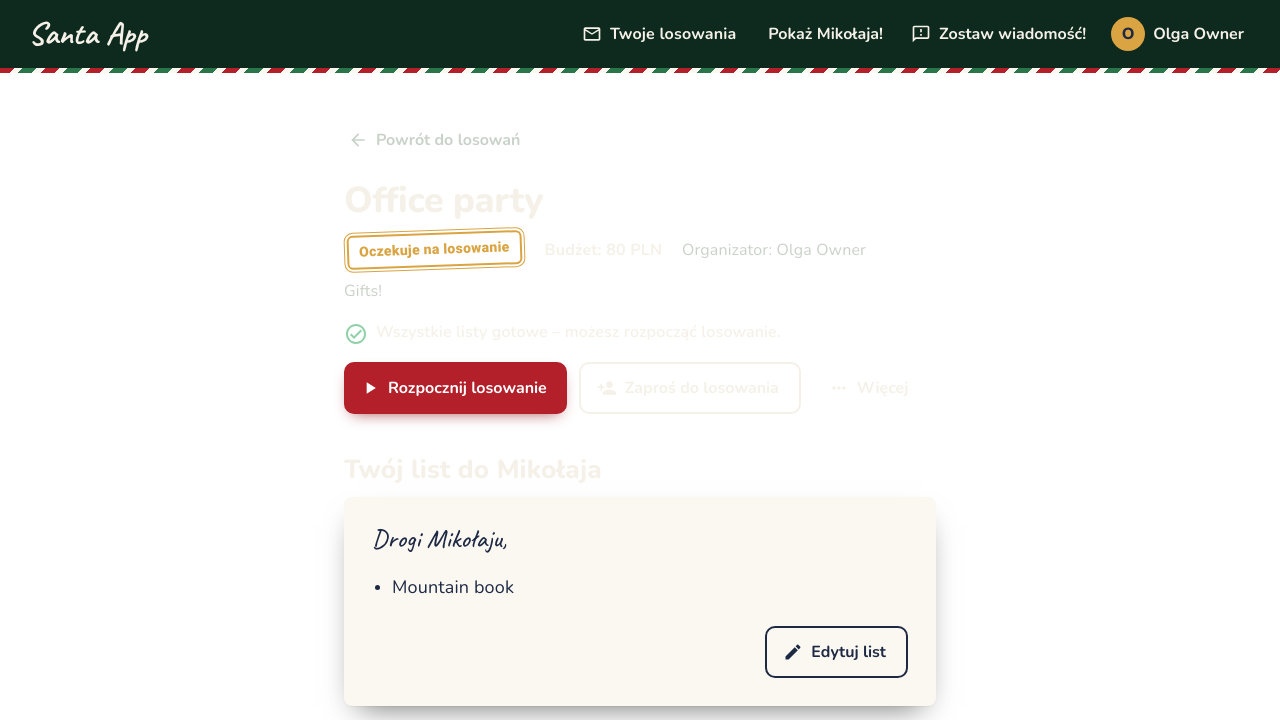
DrawPage › puts the cursor in a new thing and starts the next one on Enter
Click the button "Edytuj list".
click(837, 652)  # box [765,626,908,678]
(page scrolled)
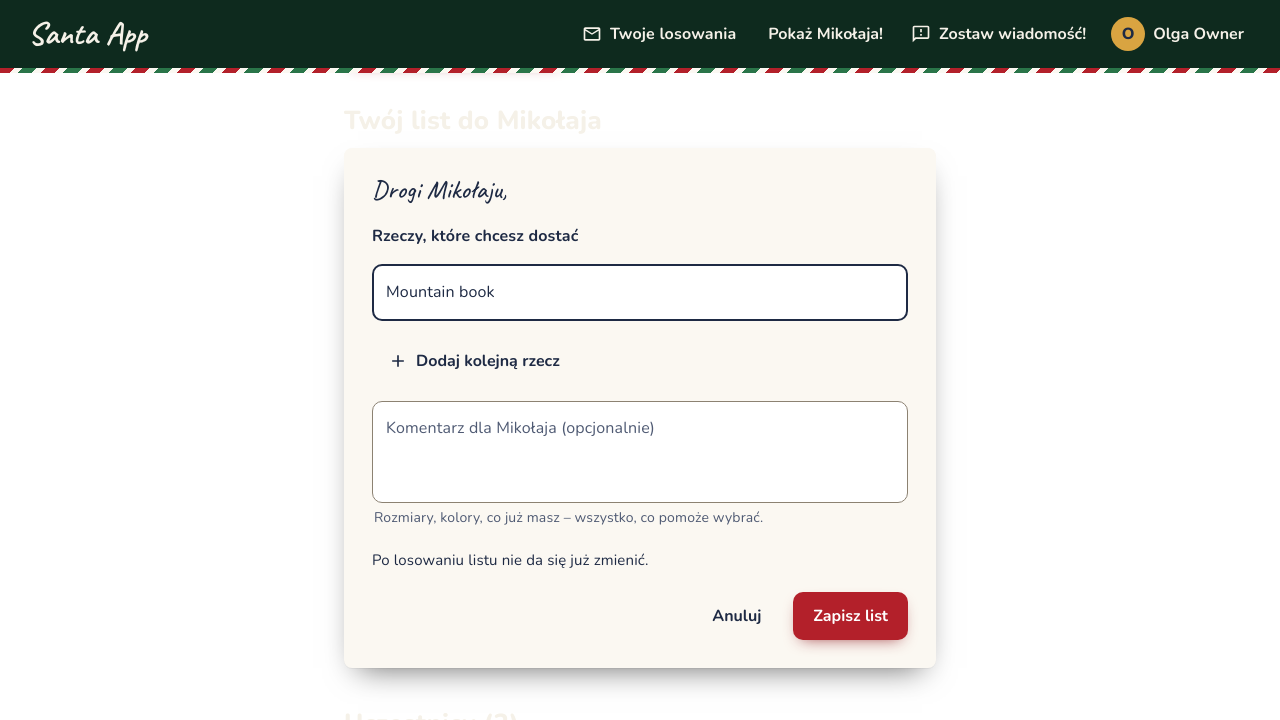
Click the button "Dodaj kolejną rzecz".
click(476, 361)  # box [372,337,580,385]
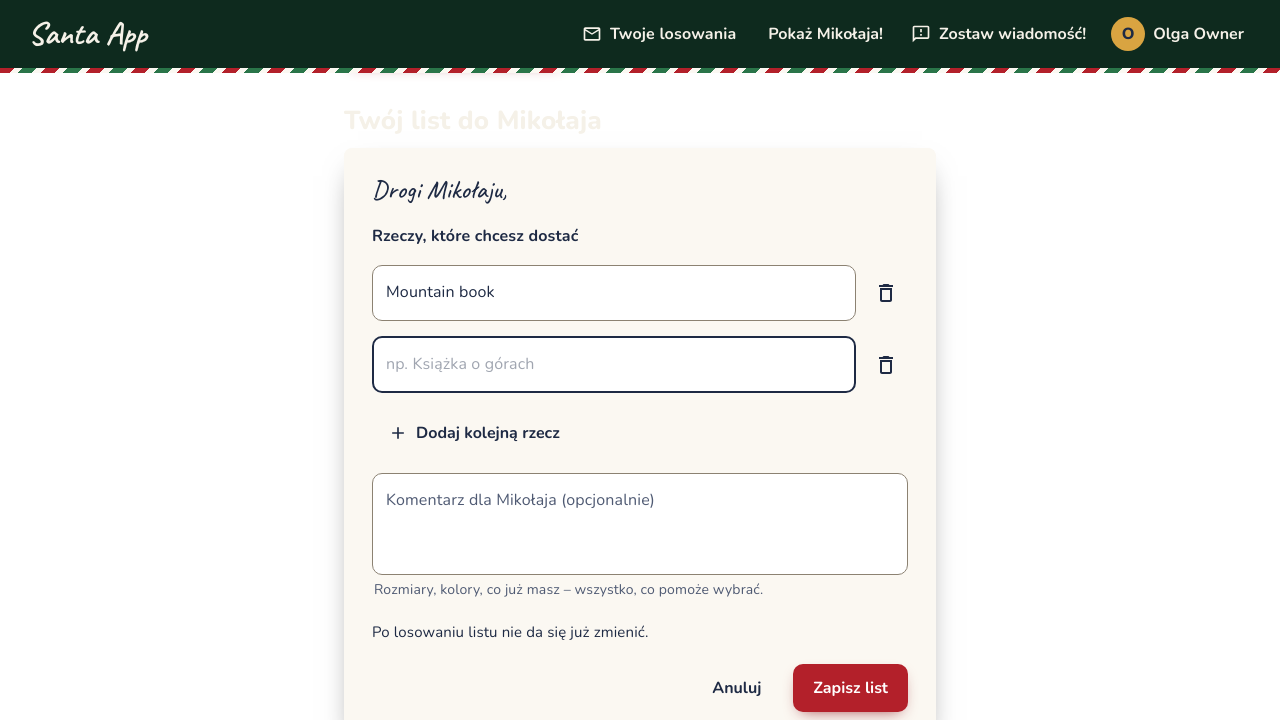
Type keys "Mug{Enter}"
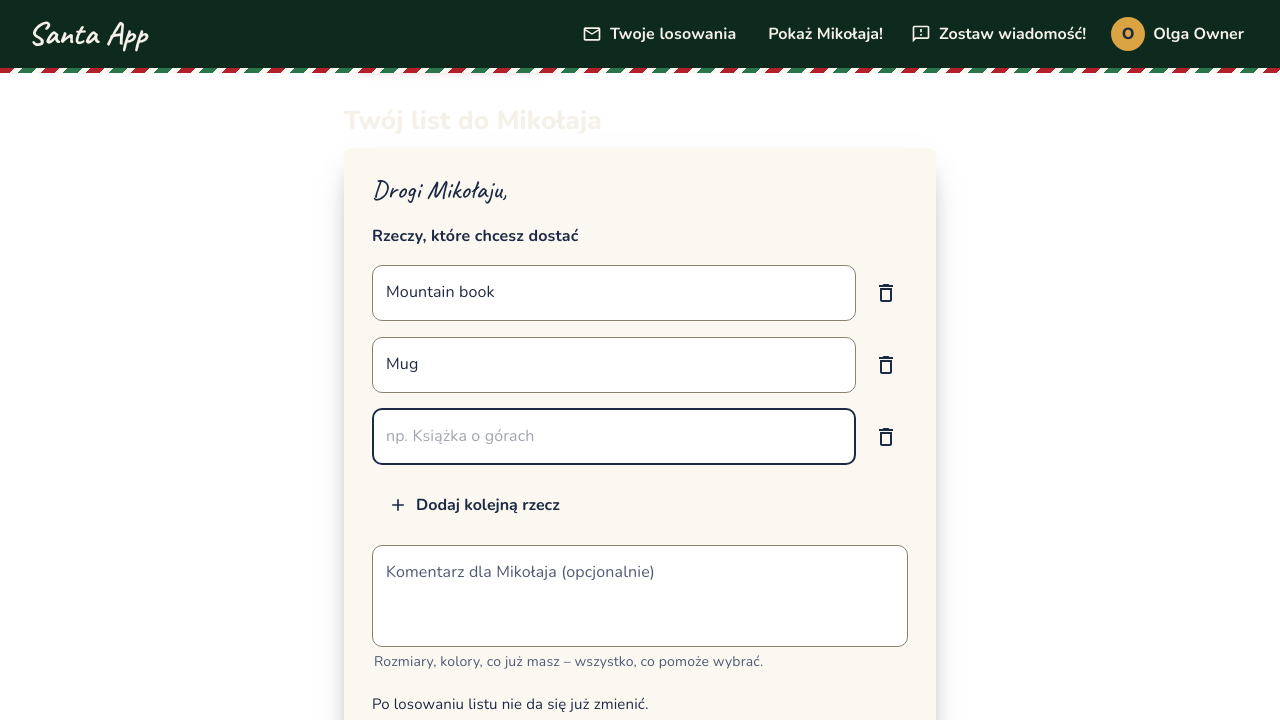
expect the field named "Rzeczy, które chcesz dostać 2" holds "Mug": met, box [372,337,856,393]
